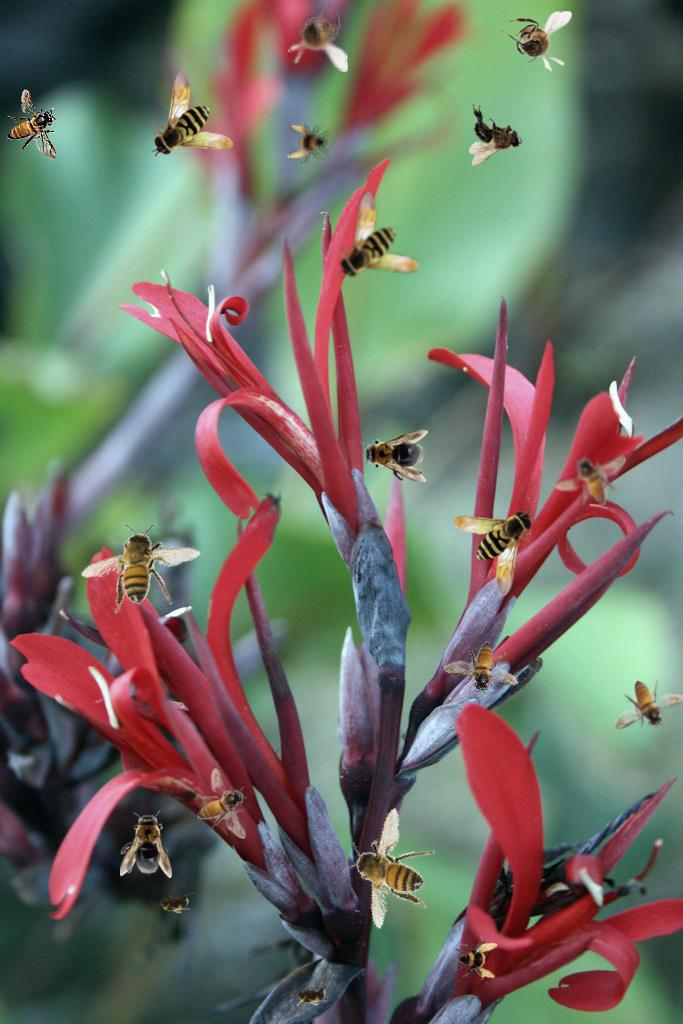Bee: (70, 496, 217, 638), (328, 799, 453, 935), (441, 628, 529, 711), (151, 69, 233, 157), (453, 509, 535, 597), (337, 191, 419, 279), (502, 11, 572, 72), (287, 2, 348, 72), (555, 455, 626, 505), (7, 89, 57, 160), (197, 768, 247, 839), (360, 430, 428, 482), (120, 810, 172, 878), (614, 680, 683, 730), (469, 104, 522, 166), (287, 122, 331, 166), (454, 936, 498, 980), (291, 984, 331, 1006), (154, 892, 194, 914)
